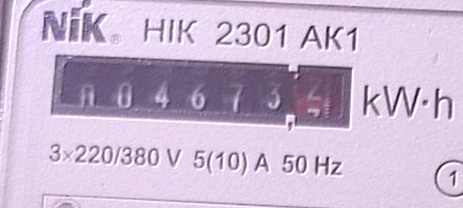0: (76, 80, 97, 111), (114, 80, 133, 111)
2: (303, 72, 325, 105)
3: (264, 79, 283, 114)
4: (152, 77, 172, 113)
6: (186, 79, 209, 114)
7: (224, 81, 247, 119)
screen: (45, 50, 357, 140)
